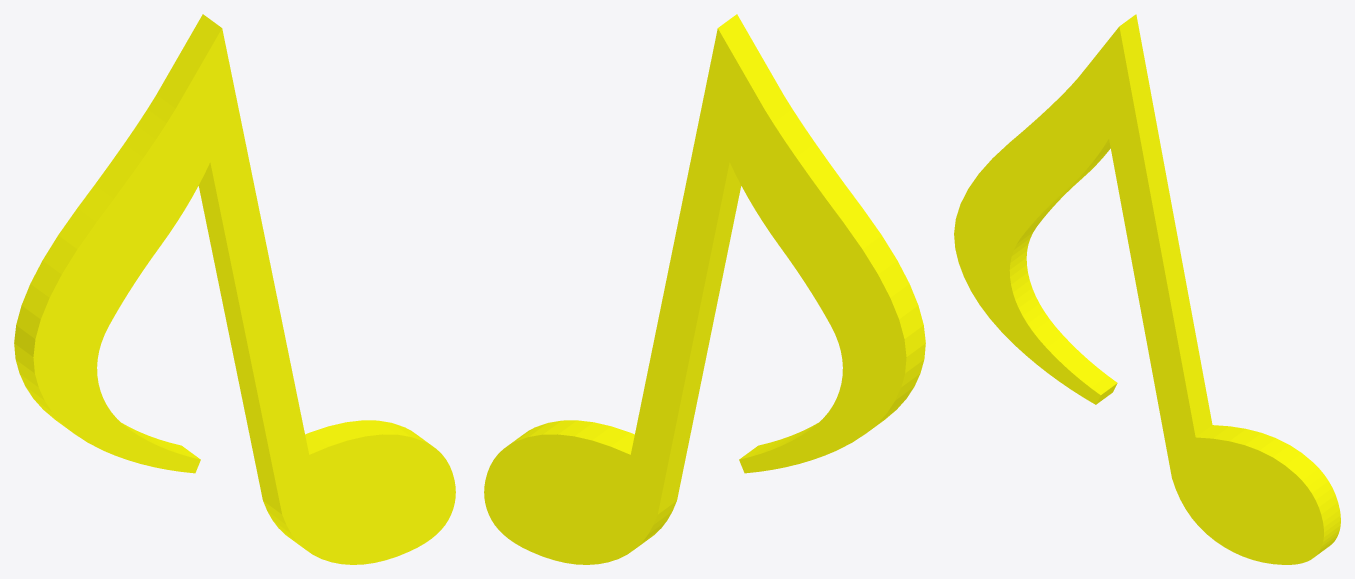
The model's file is ps2_save-icons_tumblingdice.glb.
3 renders of one model, left to right at view 1: azimuth 30°, elevation 25°; view 2: azimuth 150°, elevation 25°; view 3: azimuth 330°, elevation 25°, orthographic. The views are drawn at different scales.
Parts seen in each view (by area): view 1: icon1.ico; view 2: icon1.ico; view 3: icon1.ico.
Part boxes in pixels (left/top/right/bottom): icon1.ico: left=14, top=14, right=455, bottom=564; icon1.ico: left=484, top=14, right=925, bottom=564; icon1.ico: left=954, top=14, right=1340, bottom=564.
Size of the model in its own units: 3.23 by 4.18 by 0.2561.
Materials: 1 (1 with a texture image).
